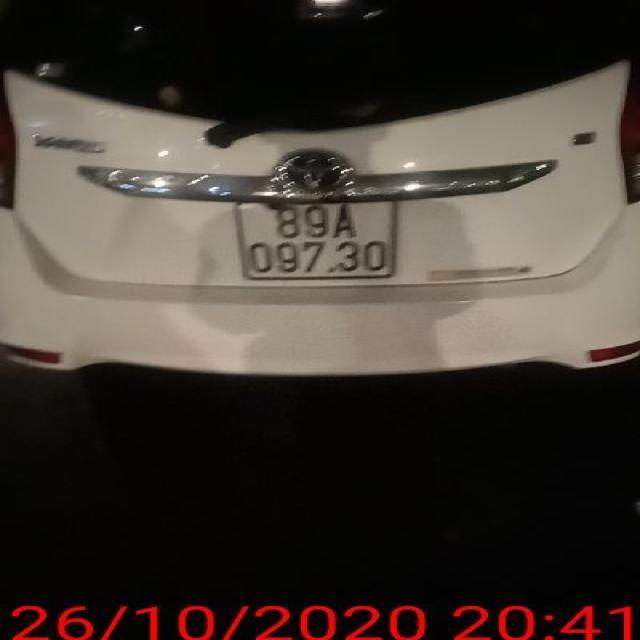bien_so_oto: (231, 195, 402, 283)
